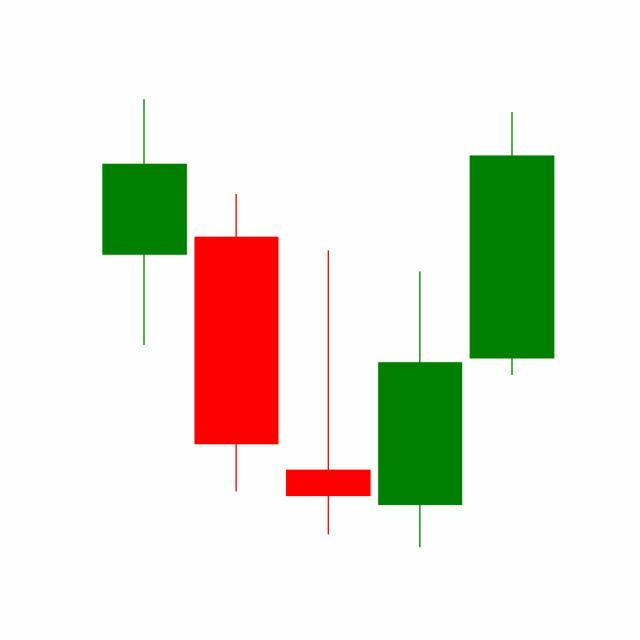Three Outside Up-Down: (280, 107, 555, 548)
